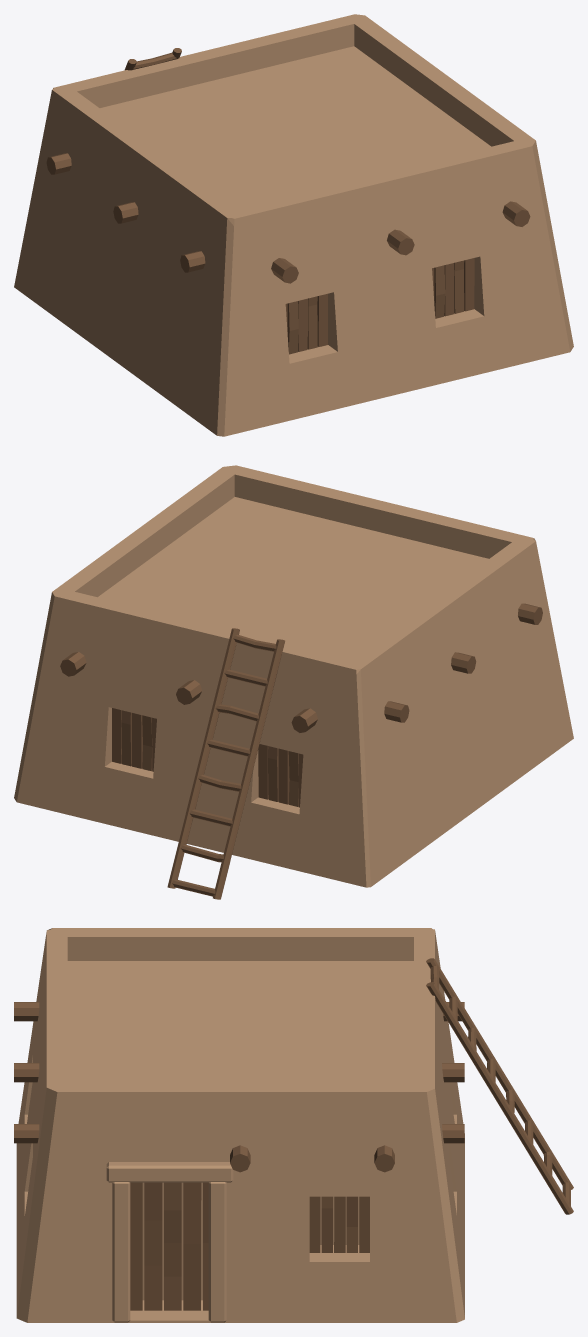
File: house3.fbx
3 views of the same model, one above another, from view 1: azimuth 30°, elevation 25°; view 2: azimuth 150°, elevation 25°; view 3: azimuth 270°, elevation 25° (orthographic). The views are drawn at different scales.
Visible parts, largest first — view 1: House_3_Base, House_3_Windows, House_3_Beams_Area; view 2: House_3_Base, House_3_Stairs_to_Roof, House_3_Windows, House_3_Beams_Area; view 3: House_3_Base, House_3_Door, House_3_Door_Platband, House_3_Stairs_to_Roof, House_3_Beams_Area, House_3_Windows.
Part boxes in pixels (<box>): House_3_Base: <box>14,14,573,436</box>; House_3_Windows: <box>285,258,474,354</box>; House_3_Beams_Area: <box>46,153,530,283</box>; House_3_Base: <box>14,465,573,887</box>; House_3_Stairs_to_Roof: <box>167,628,284,899</box>; House_3_Windows: <box>112,708,303,807</box>; House_3_Beams_Area: <box>60,603,542,732</box>; House_3_Base: <box>16,928,464,1322</box>; House_3_Door: <box>130,1182,208,1310</box>; House_3_Door_Platband: <box>106,1162,233,1322</box>; House_3_Stairs_to_Roof: <box>426,958,573,1214</box>; House_3_Beams_Area: <box>14,1002,464,1172</box>; House_3_Windows: <box>309,1196,369,1252</box>.
Size of the model in its own units: 582 by 328 by 721.
